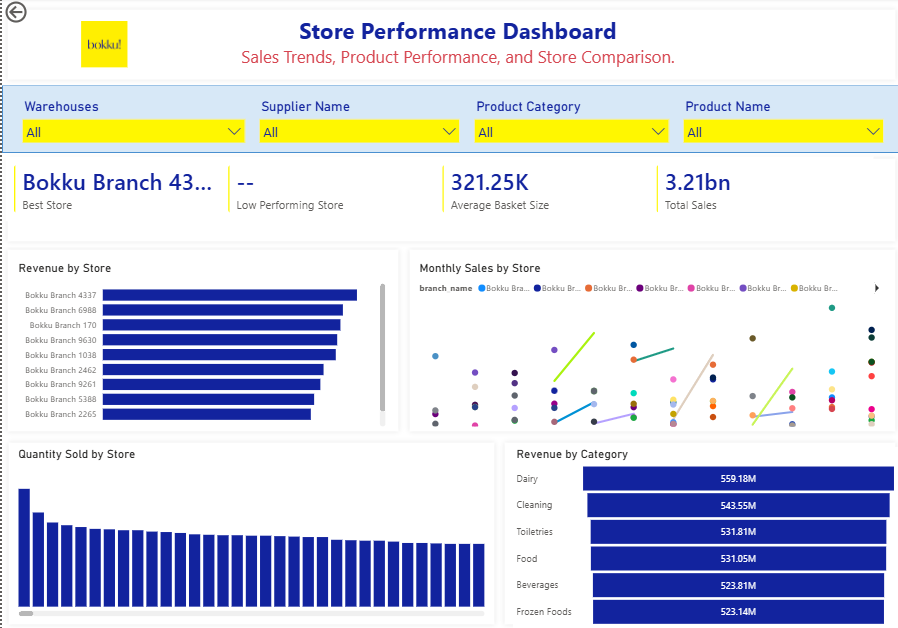

Layout of this report page (visuals, bound fields, positions):
{"tool":"powerbi","page":{"name":"Store Performance Dashboard","canvas":[1280,900],"ordinal":5},"visuals":[{"type":"shape","box":[572.5,350.3,707.8,274.8],"z":0},{"type":"shape","box":[707.8,625.2,572.5,274.8],"z":1000},{"type":"shape","box":[1.4,625.2,707.8,274.8],"z":2000},{"type":"shape","box":[0,350.3,572.5,274.8],"z":3000},{"type":"shape","box":[0,123.9,1280.2,96.8],"z":4000},{"type":"shape","box":[0,220.7,1280.2,133.9],"z":5000},{"type":"shape","box":[0,8.1,1280.4,115.7],"z":6000},{"type":"textbox","box":[18.5,18.5,1261.7,89.7],"z":7000},{"type":"image","box":[108.9,32.3,72.6,65.9],"z":8000},{"type":"cardVisual","fields":{"Data":["stores.Best Store","stores.Low Performing Store","stores.Average Basket Size","sales_transactions.Total Sales"]},"box":[0,220.7,1247.5,102.5],"z":9000},{"type":"slicer","fields":{"Values":["products.category"]},"box":[662.2,138.1,297.6,68.4],"z":10000},{"type":"slicer","fields":{"Values":["warehouses.warehouse_name"]},"box":[18.5,138.1,337.5,68.4],"z":11000},{"type":"slicer","fields":{"Values":["suppliers.supplier_name"]},"box":[356,138.1,306.2,68.4],"z":12000},{"type":"slicer","fields":{"Values":["products.product_name"]},"box":[959.8,138.1,306.2,68.4],"z":13000},{"type":"clusteredBarChart","title":"Revenue by Store","fields":{"Y":["sales_transactions.Total Sales"],"Category":["stores.branch_name"]},"box":[18.5,374.5,532.6,240.7],"z":14000},{"type":"columnChart","title":"Quantity Sold by Store","fields":{"Category":["stores.branch_name"],"Y":["sales_transactions.Total Qty"]},"box":[18.5,639.4,673.6,246.4],"z":15000},{"type":"actionButton","box":[0,0,100,40],"z":16000},{"type":"lineChart","title":"Monthly Sales by Store","fields":{"Category":["Dates.Month"],"Series":["stores.branch_name"],"Y":["sales_transactions.Total Sales"]},"box":[589.6,374.5,676.4,240.7],"z":17000},{"type":"funnel","title":"Revenue by Category","fields":{"Category":["products.category","stores.branch_name"],"Y":["sales_transactions.Total Sales"]},"box":[727.7,639.4,552.5,260.6],"z":18000}]}

Visuals, with their boxes in screenshot pixels (x1, y1, x2, y2), scaled from the page's 1280x900 canvas onto the 898x628 screenshot:
shape: [402, 244, 897, 436]
shape: [497, 436, 897, 627]
shape: [1, 436, 498, 627]
shape: [0, 244, 402, 436]
shape: [0, 86, 897, 154]
shape: [0, 154, 897, 247]
shape: [0, 6, 897, 86]
textbox: [13, 13, 897, 75]
image: [76, 23, 127, 69]
cardVisual - stores.Best Store x stores.Low Performing Store: [0, 154, 875, 226]
slicer - products.category: [465, 96, 673, 144]
slicer - warehouses.warehouse_name: [13, 96, 250, 144]
slicer - suppliers.supplier_name: [250, 96, 465, 144]
slicer - products.product_name: [673, 96, 888, 144]
"Revenue by Store" clusteredBarChart: [13, 261, 387, 429]
"Quantity Sold by Store" columnChart: [13, 446, 486, 618]
actionButton: [0, 0, 70, 28]
"Monthly Sales by Store" lineChart: [414, 261, 888, 429]
"Revenue by Category" funnel: [511, 446, 897, 627]
